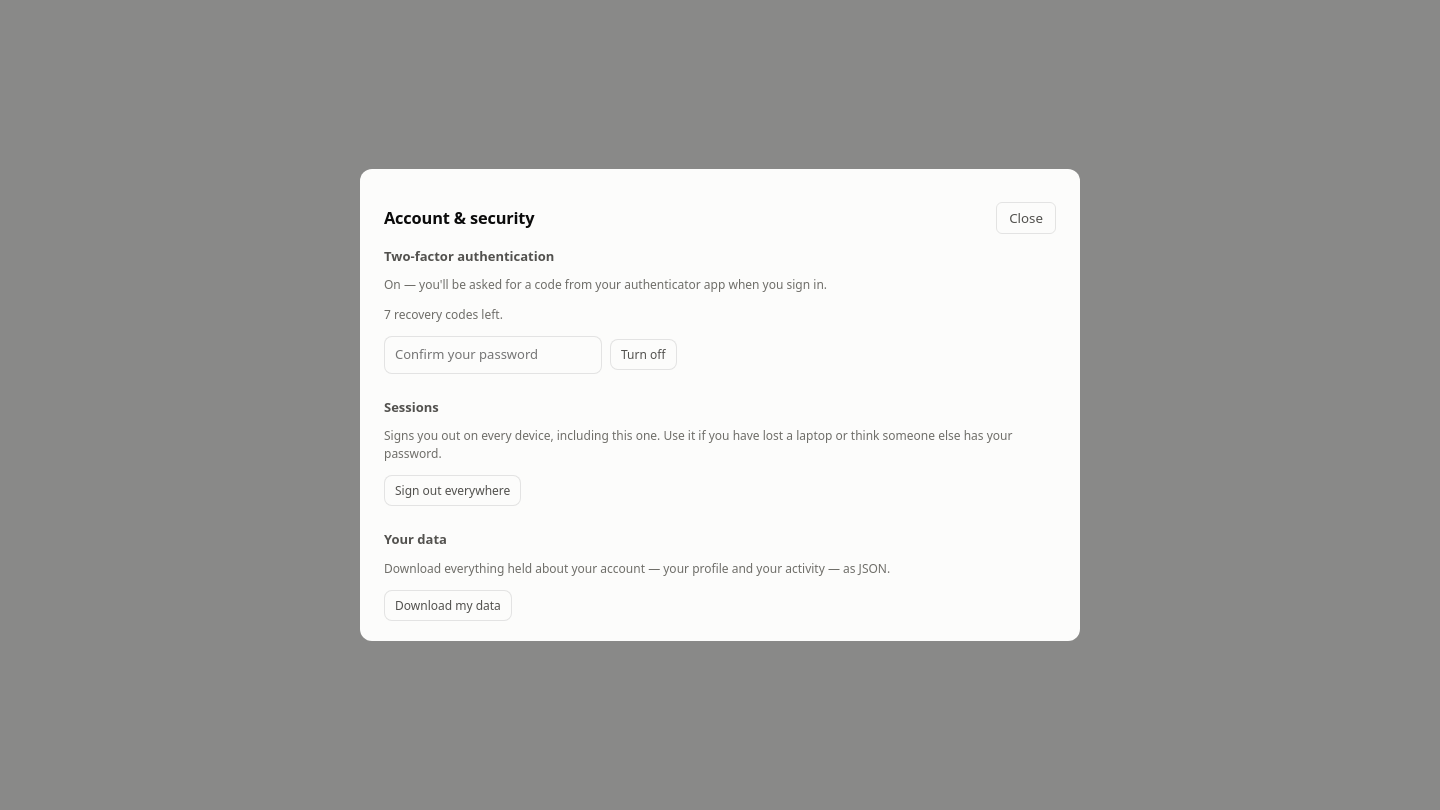
Scenario: SecurityDialog — turning it off › shows why a wrong password was refused
The width and height of the screenshot is (1440, 810).
Type "wrong" into the password field with placeholder "Confirm your password".
click(493, 355); type("wrong")  # box [384,336,602,374]
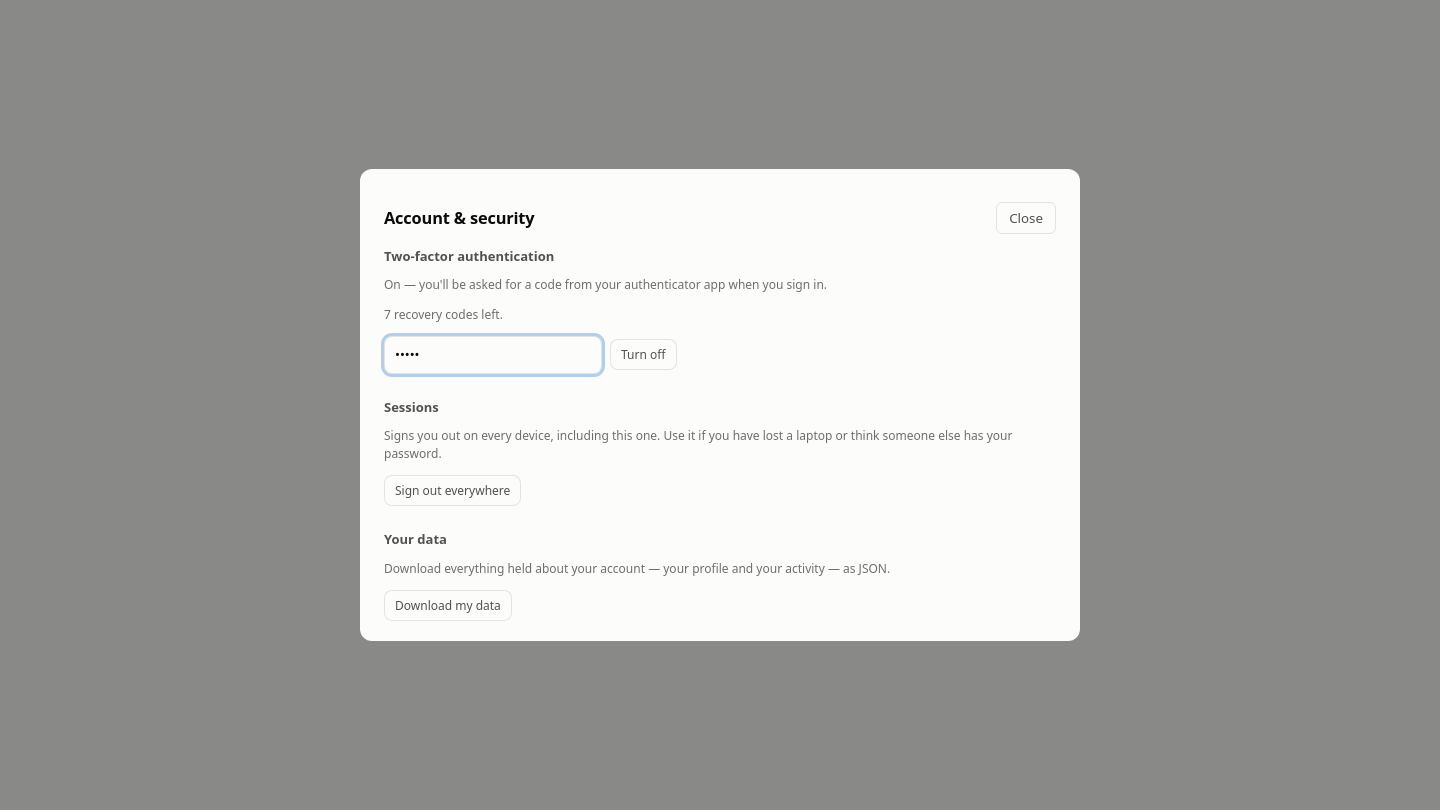
Click the button "Turn off".
click(643, 355)  # box [610,339,676,370]
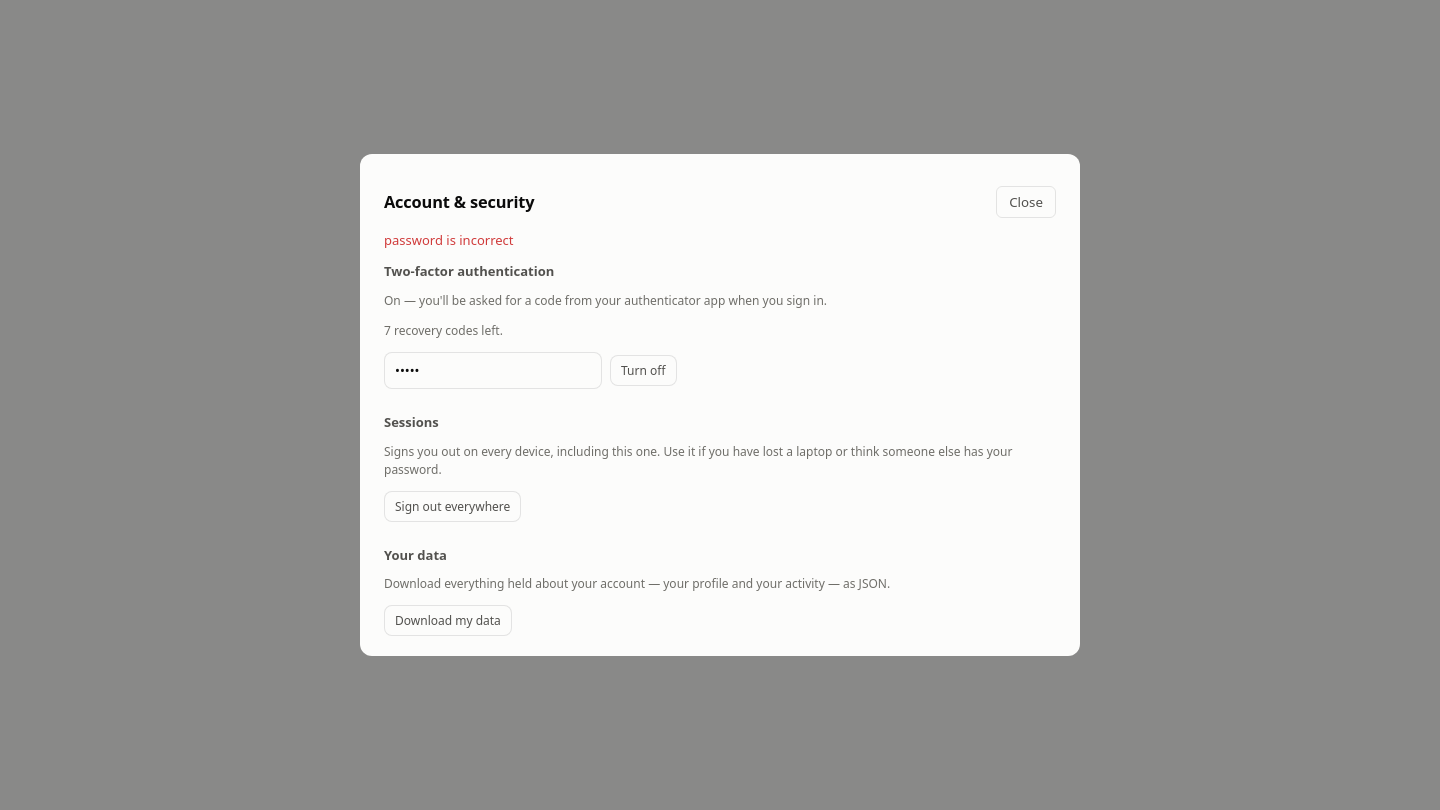
Check: the text "password is incorrect" is shown, box [384,231,514,249]
